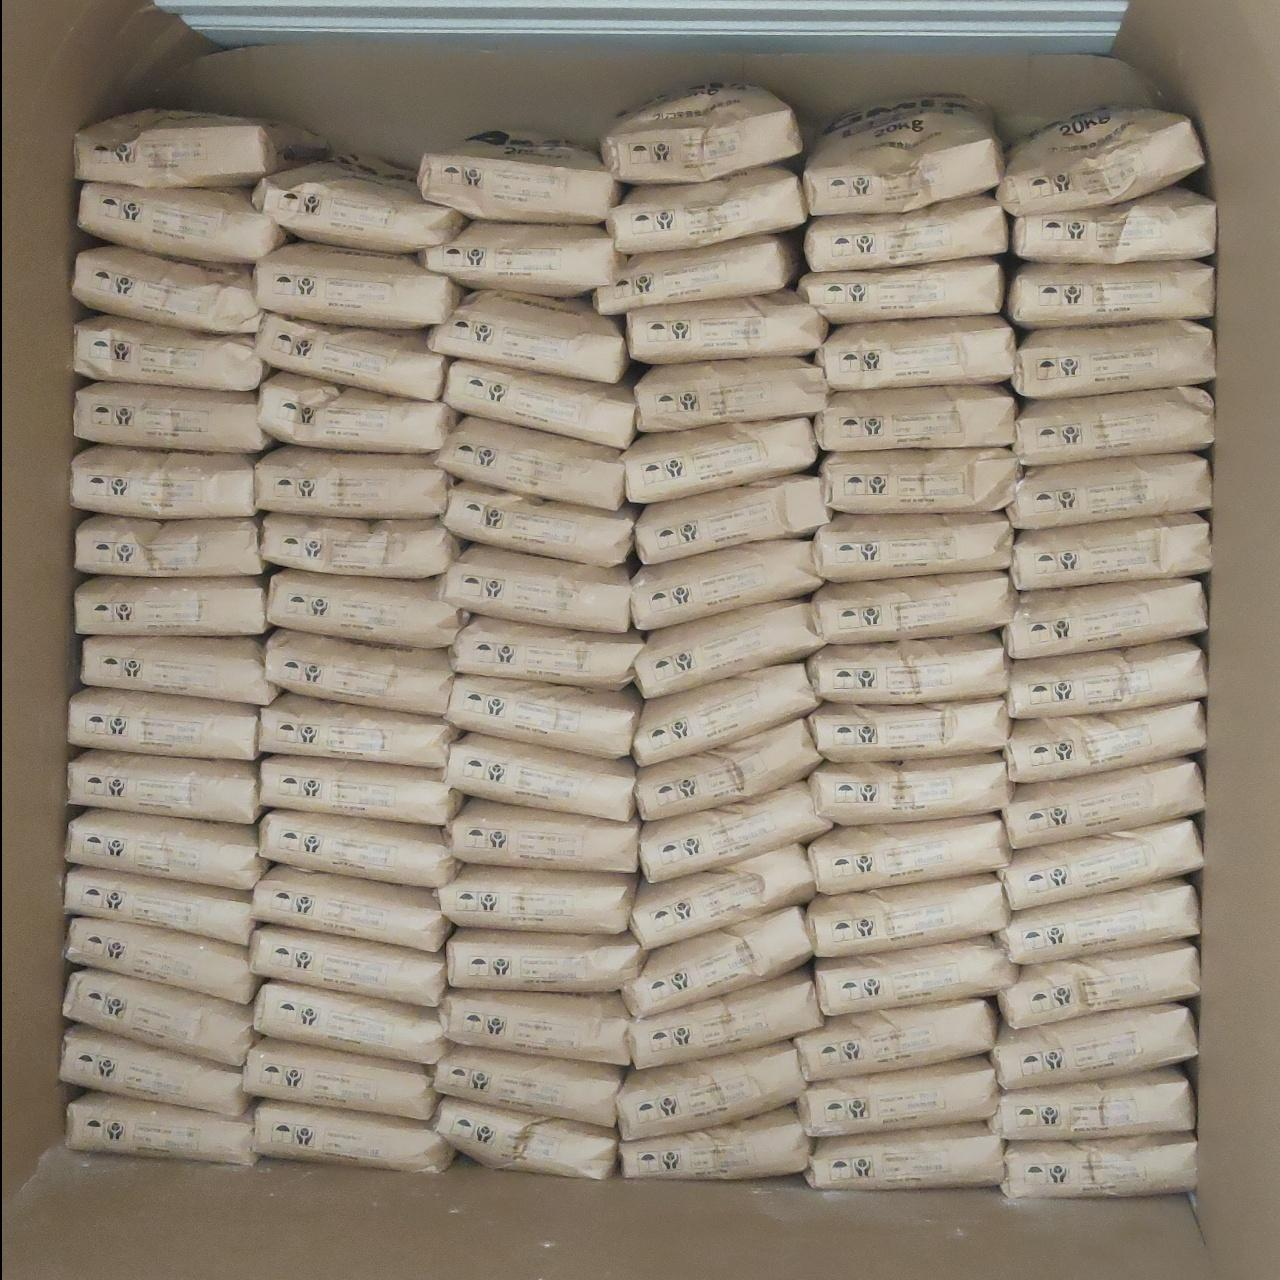sack: (803, 97, 1003, 215), (997, 106, 1204, 215), (622, 907, 812, 1017), (253, 155, 464, 252), (601, 85, 802, 183), (75, 109, 327, 186), (630, 844, 814, 949), (630, 969, 823, 1068), (640, 782, 831, 882), (416, 130, 618, 224), (633, 664, 820, 765), (998, 819, 1203, 911), (63, 969, 256, 1066), (635, 719, 820, 820), (635, 601, 826, 698), (616, 1042, 805, 1139), (428, 291, 629, 381), (1003, 759, 1203, 849), (606, 166, 807, 255), (435, 416, 625, 510), (254, 243, 462, 328), (991, 1004, 1197, 1089), (636, 475, 830, 564), (999, 942, 1199, 1028), (443, 360, 635, 449), (631, 540, 823, 629), (998, 879, 1199, 964), (252, 866, 450, 952), (60, 1025, 248, 1115), (445, 673, 643, 758), (444, 733, 634, 821), (808, 874, 1009, 957), (622, 417, 818, 502), (78, 183, 286, 263), (594, 234, 802, 314), (256, 313, 447, 400), (794, 999, 996, 1081), (440, 545, 630, 632), (65, 917, 258, 1002), (441, 482, 636, 566), (815, 936, 1017, 1016), (1003, 580, 1207, 659), (72, 247, 259, 333), (266, 629, 453, 715), (1011, 186, 1216, 264), (799, 1057, 998, 1137), (1008, 639, 1207, 719), (809, 815, 1010, 894), (65, 810, 265, 889), (1005, 701, 1205, 780), (258, 372, 455, 452), (1011, 321, 1215, 398), (243, 1038, 436, 1119), (250, 926, 445, 1006), (1013, 387, 1213, 465), (254, 983, 445, 1064), (267, 570, 467, 647), (1011, 513, 1210, 590), (1010, 453, 1211, 529), (805, 196, 1008, 271), (623, 290, 828, 364), (419, 222, 623, 296), (260, 810, 456, 887), (434, 1047, 624, 1126), (990, 1067, 1194, 1140), (259, 694, 457, 768), (435, 1098, 618, 1178), (64, 867, 253, 944), (74, 315, 267, 390), (818, 316, 1013, 390), (635, 357, 827, 432), (809, 754, 1011, 825), (807, 633, 1008, 704), (254, 1101, 454, 1172), (812, 572, 1014, 642), (441, 990, 629, 1065), (260, 755, 461, 825), (68, 750, 260, 823), (447, 797, 639, 870), (451, 616, 643, 689), (1008, 261, 1214, 329), (74, 382, 270, 453), (255, 446, 451, 517), (620, 1106, 810, 1179), (66, 1092, 256, 1164), (69, 688, 258, 760), (813, 513, 1012, 581), (71, 446, 256, 519), (438, 865, 636, 933), (798, 259, 1005, 324), (806, 1122, 1005, 1189), (81, 637, 277, 704), (821, 448, 1019, 513), (816, 386, 1017, 450), (1001, 1133, 1197, 1198), (807, 699, 1010, 761), (261, 514, 458, 577), (448, 928, 646, 990), (75, 515, 265, 576), (75, 577, 269, 634)
